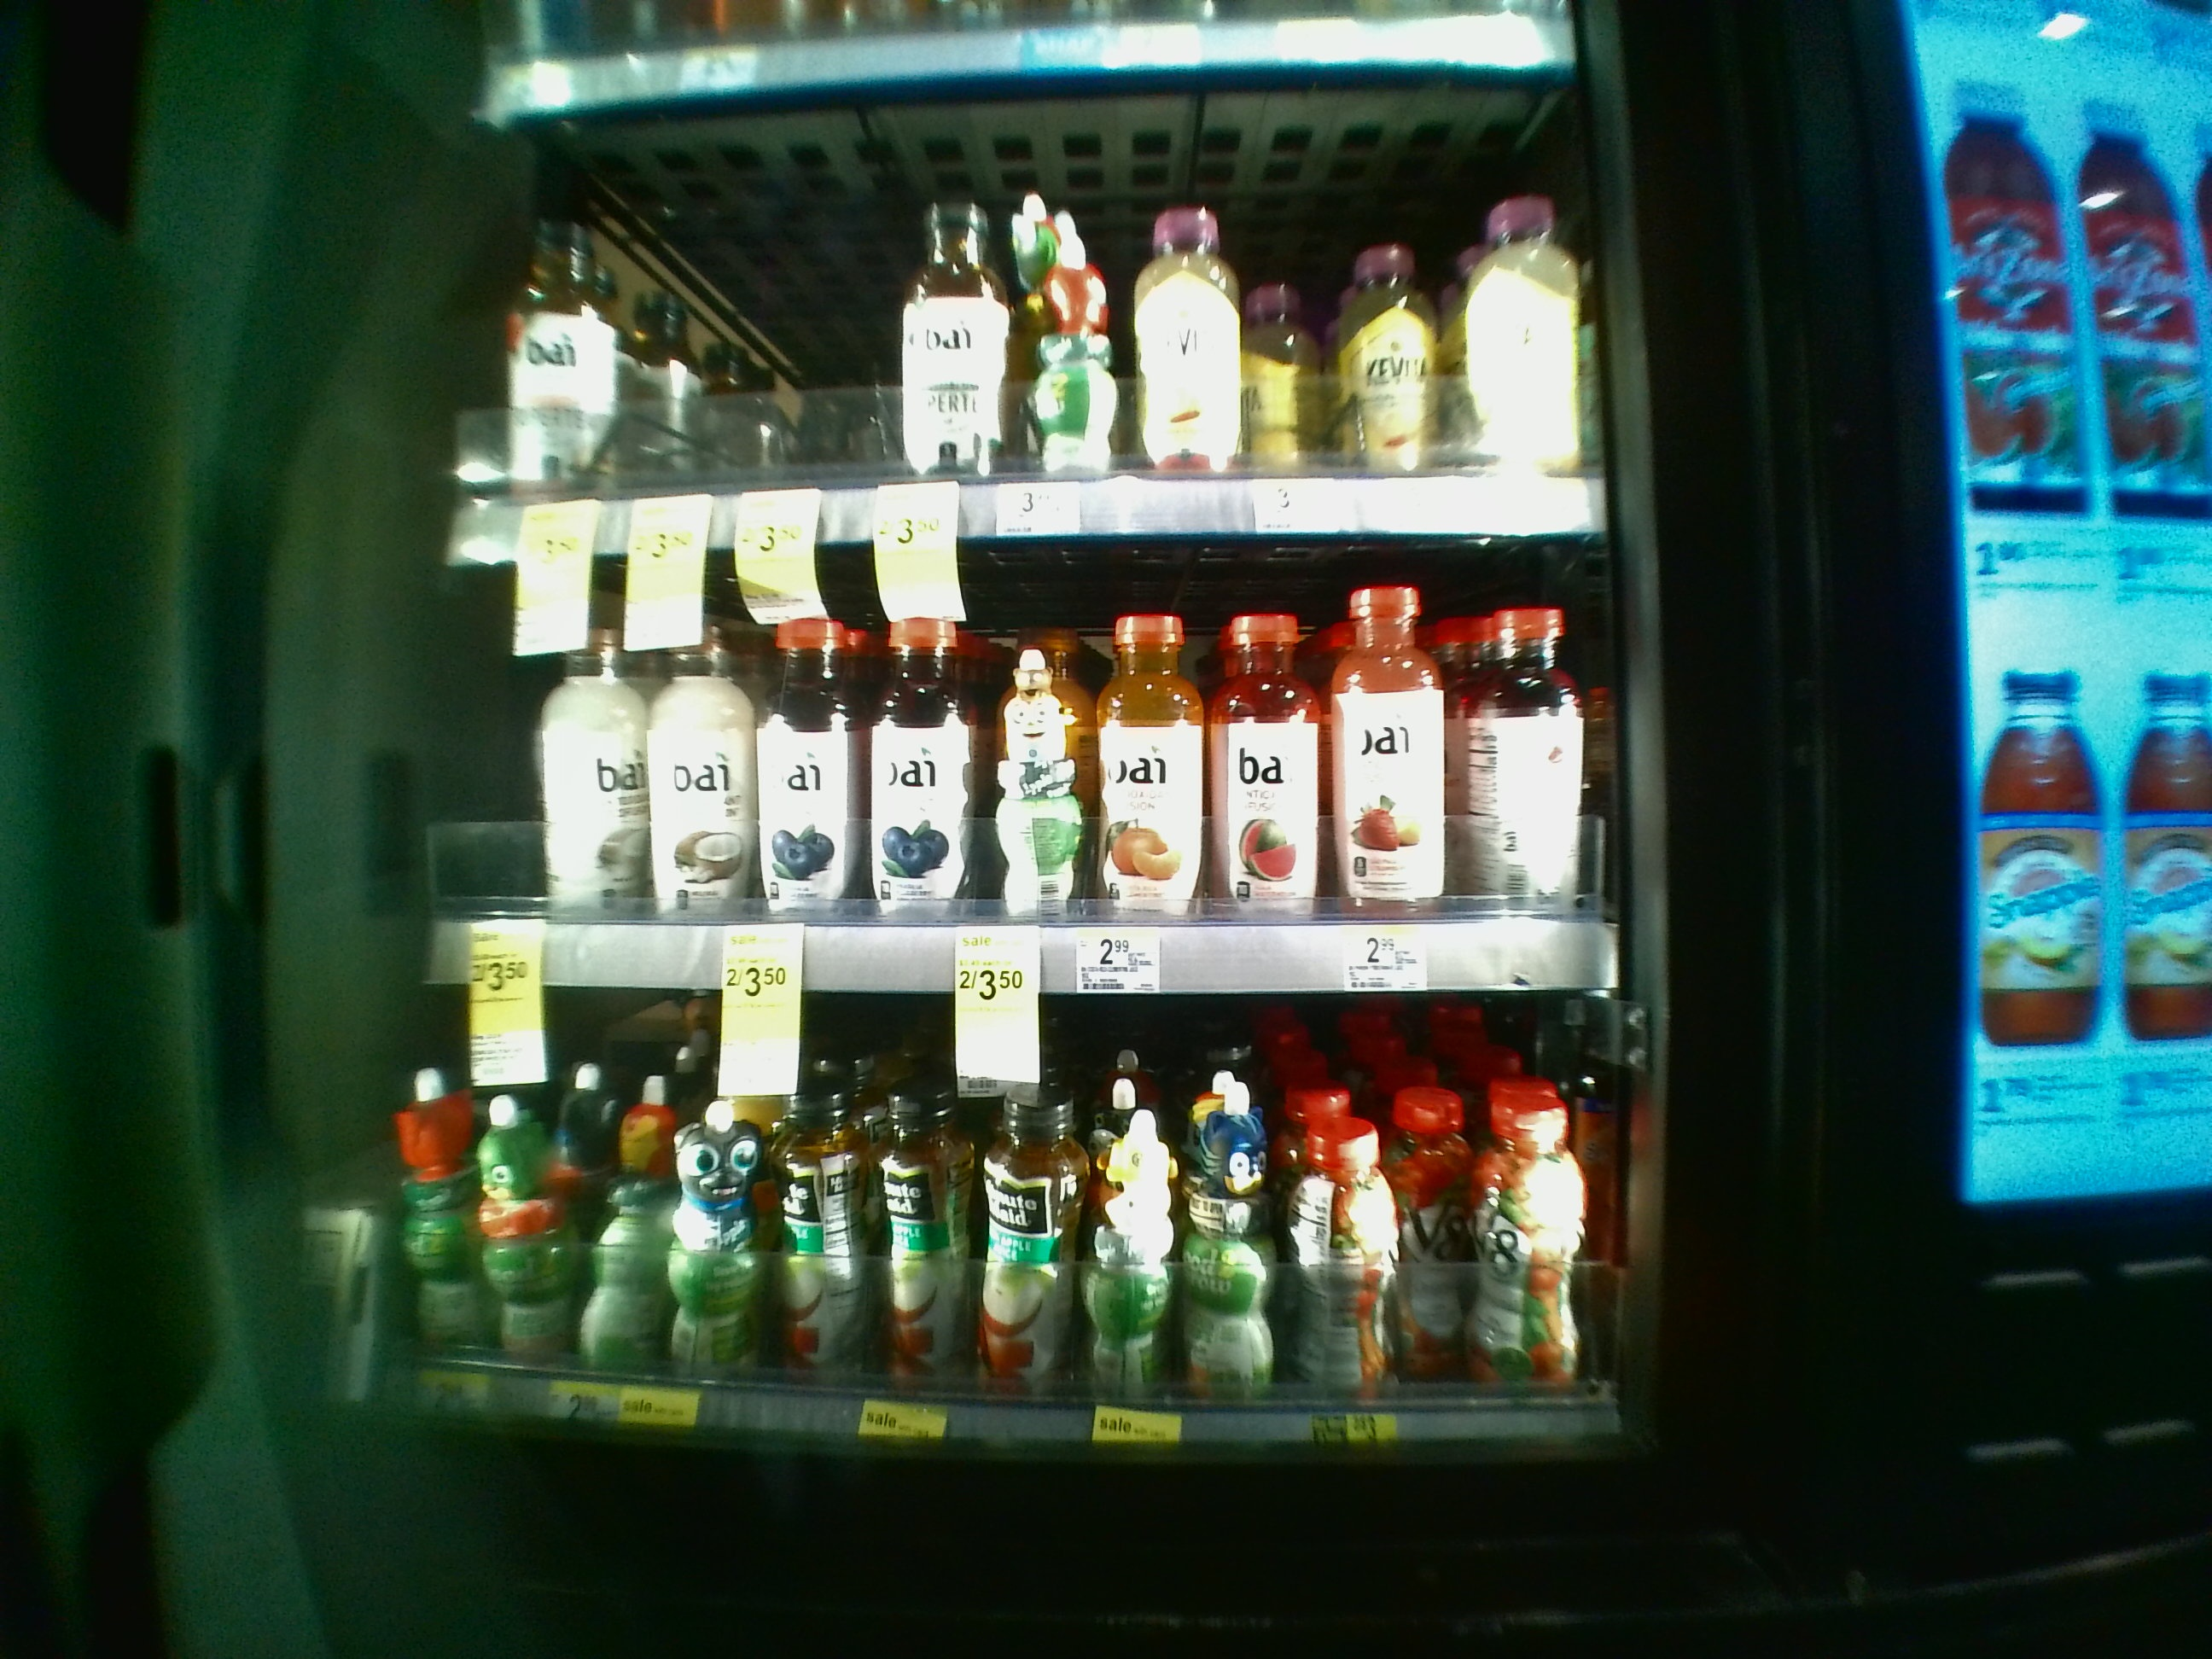shelf: (401, 1002, 1627, 1457), (428, 582, 1627, 993), (435, 141, 1606, 552)
